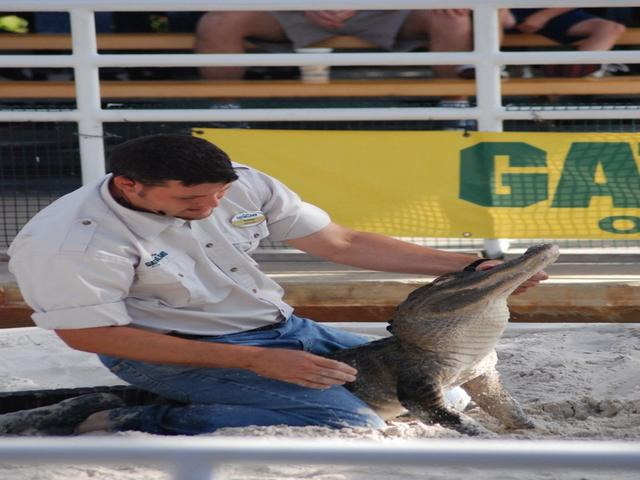crocodile: (257, 213, 578, 437)
